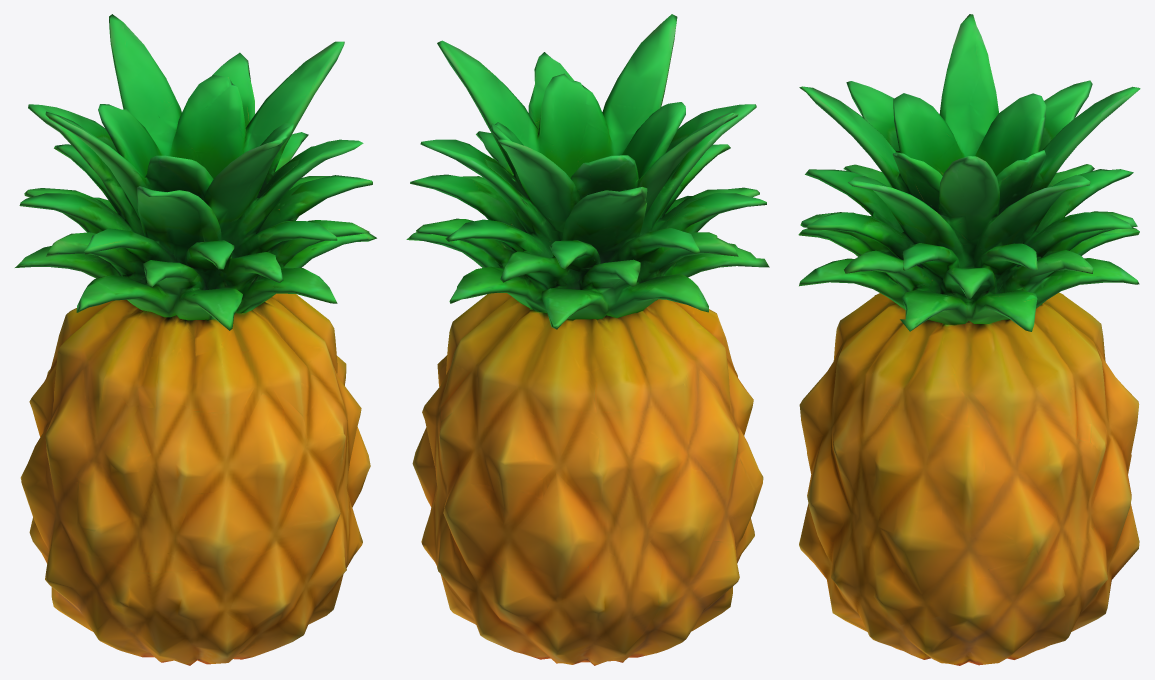
The model's file is ananas-v1.glb.
The picture shows the model from 3 angles, left to right: view 1: azimuth 30°, elevation 25°; view 2: azimuth 150°, elevation 25°; view 3: azimuth 270°, elevation 25°; orthographic projection.
Visible parts, largest first — view 1: Mesh_0; view 2: Mesh_0; view 3: Mesh_0.
Part boxes in pixels (left/top/right/bottom): Mesh_0: left=15, top=14, right=376, bottom=665; Mesh_0: left=406, top=14, right=769, bottom=665; Mesh_0: left=798, top=14, right=1140, bottom=665.
Bounding box in the file's own units: 0.1705 × 0.3 × 0.1698.
Materials: 1 (1 with a texture image).
